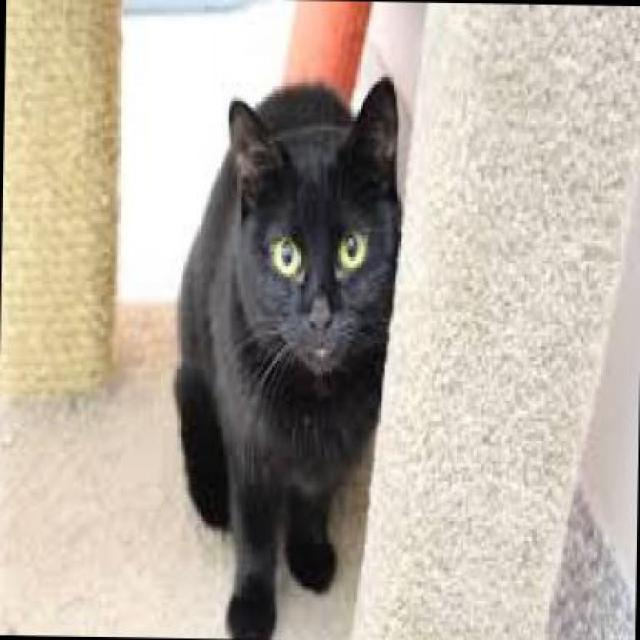animals: (168, 47, 410, 638)
